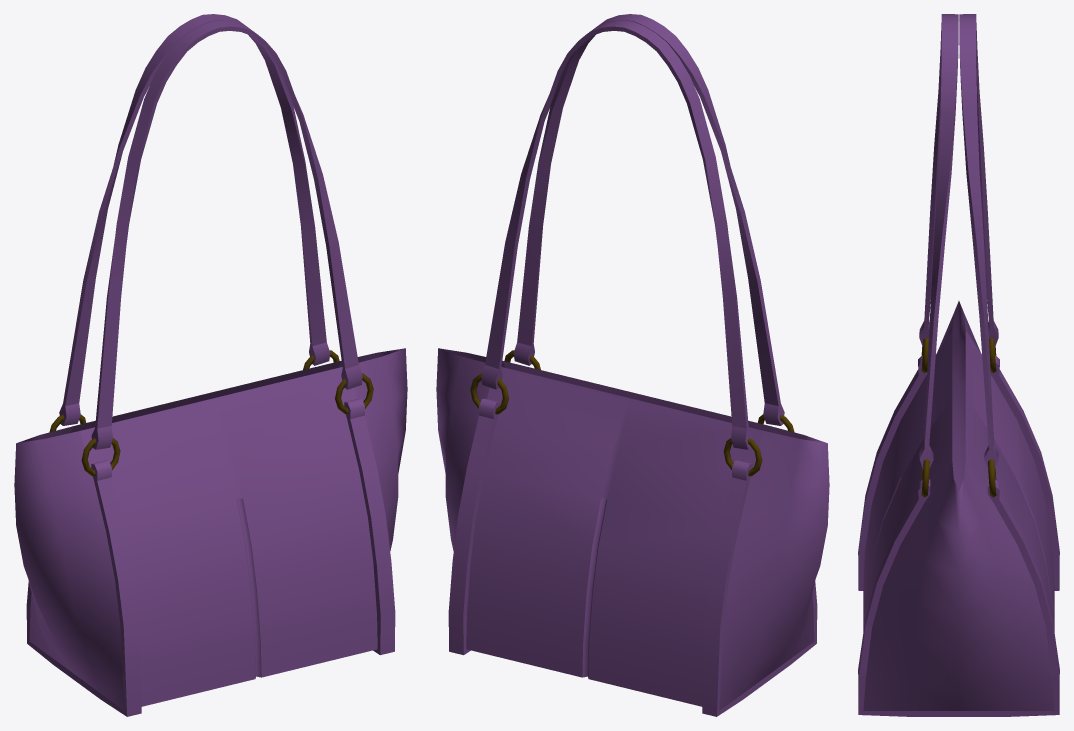
File: canta.FBX
3 renders of one model, left to right at view 1: azimuth 30°, elevation 25°; view 2: azimuth 150°, elevation 25°; view 3: azimuth 270°, elevation 25°, orthographic.
Parts seen in each view (by area): view 1: Box001, Cylinder001; view 2: Box001, Cylinder001; view 3: Box001, Cylinder001.
Part boxes in pixels (x1,y1,x2,y2): Box001: (14, 348, 407, 716); Cylinder001: (59, 14, 362, 449); Box001: (436, 348, 829, 716); Cylinder001: (481, 14, 784, 449); Box001: (858, 301, 1059, 716); Cylinder001: (919, 14, 998, 469).
Bounding box in the file's own units: 66.61 × 102 × 29.43.
